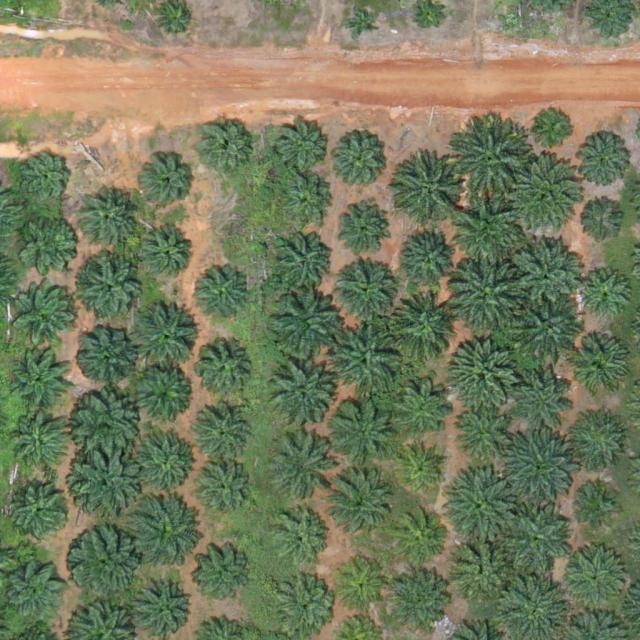Healthy: (453, 125, 531, 204), (387, 293, 458, 364), (132, 495, 203, 566), (562, 547, 633, 617), (504, 431, 574, 502), (512, 239, 582, 310), (515, 160, 585, 231), (454, 199, 525, 269), (452, 473, 522, 544), (383, 374, 453, 445), (331, 327, 401, 398), (328, 396, 398, 467), (326, 468, 396, 539), (269, 291, 339, 362), (129, 300, 199, 371), (77, 255, 147, 326), (72, 392, 142, 463), (503, 505, 573, 575), (515, 294, 585, 364), (449, 262, 519, 332), (447, 337, 517, 407), (69, 450, 139, 520), (194, 337, 257, 400), (192, 459, 255, 522), (135, 429, 198, 492), (130, 362, 193, 425), (75, 325, 138, 388), (10, 480, 73, 543), (10, 415, 73, 478), (7, 349, 70, 412), (569, 337, 632, 399), (514, 361, 576, 424), (454, 537, 516, 600), (401, 226, 463, 289), (329, 128, 391, 191), (337, 259, 399, 322), (266, 436, 328, 499), (189, 266, 251, 329), (192, 404, 254, 467), (78, 188, 140, 251), (70, 528, 132, 591), (4, 564, 66, 627), (17, 284, 79, 347), (19, 208, 82, 270), (398, 162, 460, 224), (272, 573, 334, 635), (269, 365, 331, 427), (272, 230, 334, 292), (576, 135, 631, 191), (576, 268, 631, 323), (572, 413, 627, 468), (451, 408, 506, 463), (391, 575, 446, 630), (390, 512, 445, 567), (333, 201, 388, 256), (272, 509, 327, 564), (275, 121, 330, 176), (197, 119, 252, 174), (137, 581, 192, 636), (136, 226, 191, 281), (142, 156, 197, 211), (283, 173, 337, 228), (195, 546, 249, 601), (20, 154, 74, 209)
Small: (395, 442, 450, 497), (577, 201, 624, 249), (535, 108, 575, 148), (578, 487, 617, 526), (413, 2, 444, 34), (346, 8, 377, 40)
Yellow: (335, 559, 390, 614)
